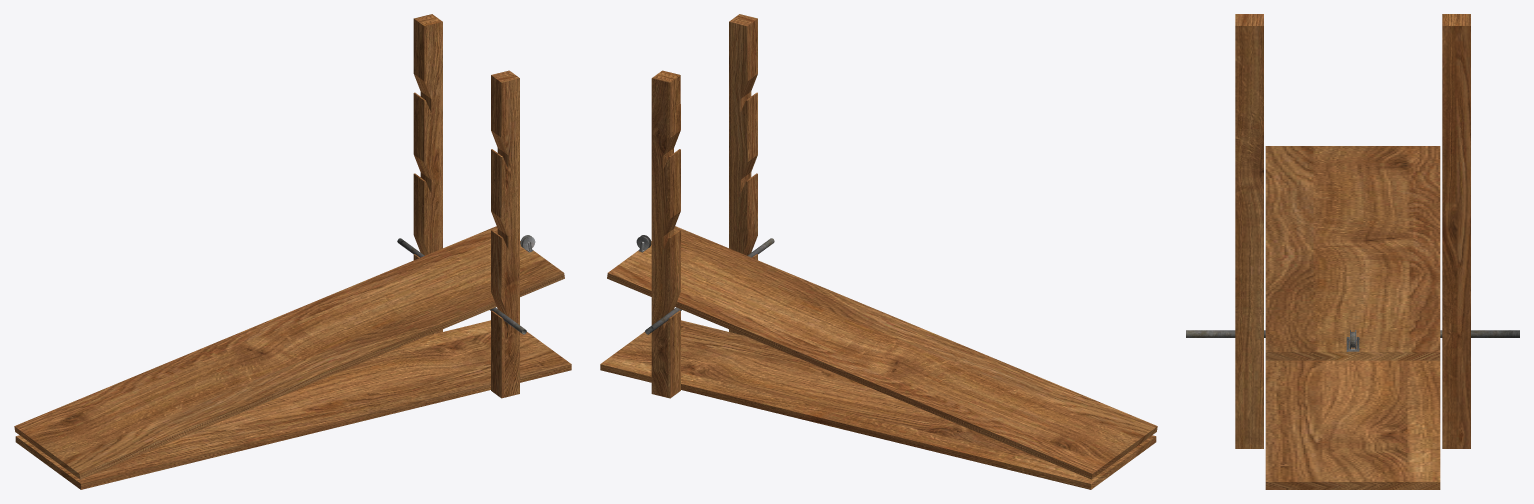
Rendered from inclined plane.fbx.
The picture shows the model from 3 angles, left to right: view 1: azimuth 30°, elevation 25°; view 2: azimuth 150°, elevation 25°; view 3: azimuth 270°, elevation 25°; orthographic projection. The views are drawn at different scales.
Visible parts, largest first — view 1: pCube1, pCube3, polySurface3, polySurface9; view 2: pCube1, pCube3, polySurface9, polySurface3; view 3: pCube1, pCube3, polySurface9, polySurface3, pCylinder1.
Part boxes in pixels (x1,y1,x2,y2): pCube1: (14, 226, 564, 479); pCube3: (15, 320, 571, 489); polySurface3: (491, 70, 519, 398); polySurface9: (413, 14, 442, 335); pCube1: (607, 226, 1157, 479); pCube3: (600, 320, 1156, 489); polySurface9: (651, 70, 680, 398); polySurface3: (729, 14, 757, 335); pCube1: (1265, 146, 1440, 360); pCube3: (1265, 360, 1440, 489); polySurface9: (1442, 14, 1470, 448); polySurface3: (1235, 14, 1263, 448); pCylinder1: (1186, 330, 1519, 337).
Size of the model in its own units: 19.83 by 12.15 by 8.69.
1 material, 1 textured.
